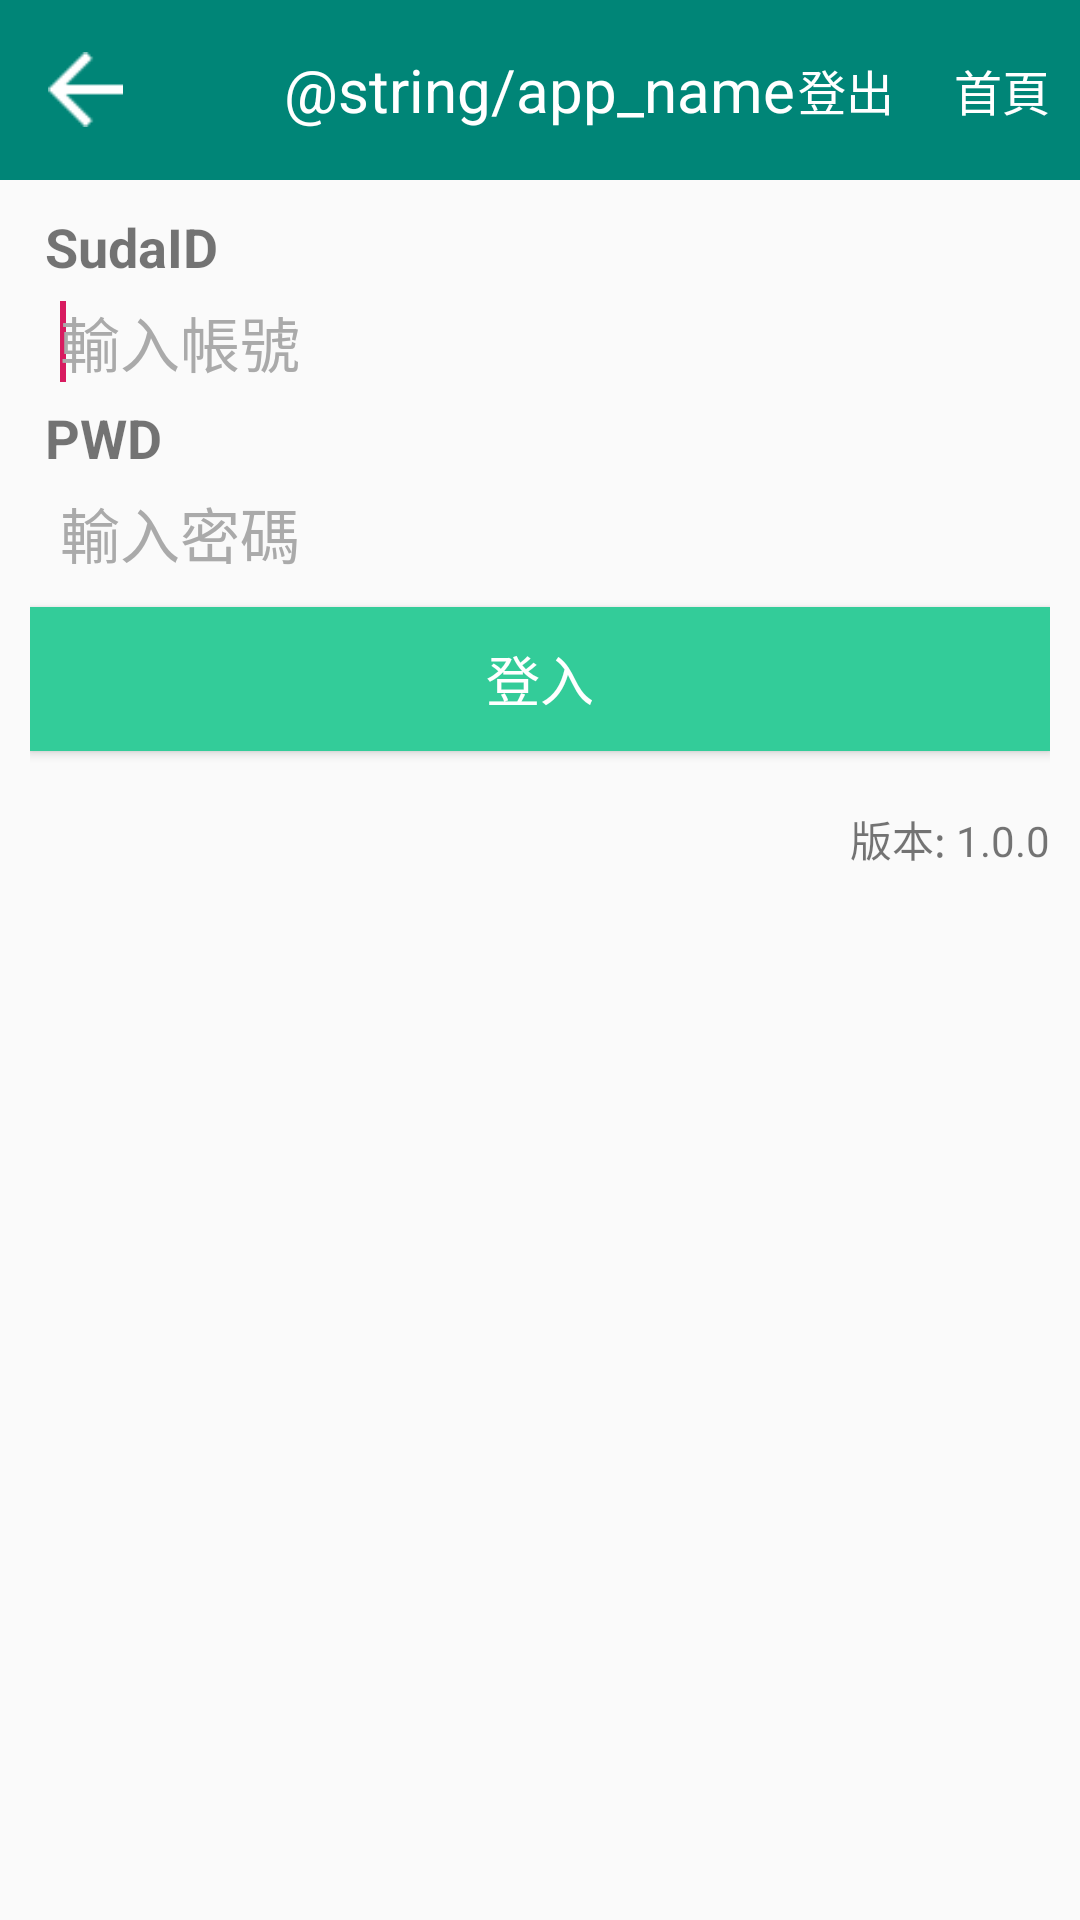

Icon bounding boxes for this 1080px x 1920px phone screenshot, format (x1, y1, x2, y2):
back: (48, 52, 123, 127)
